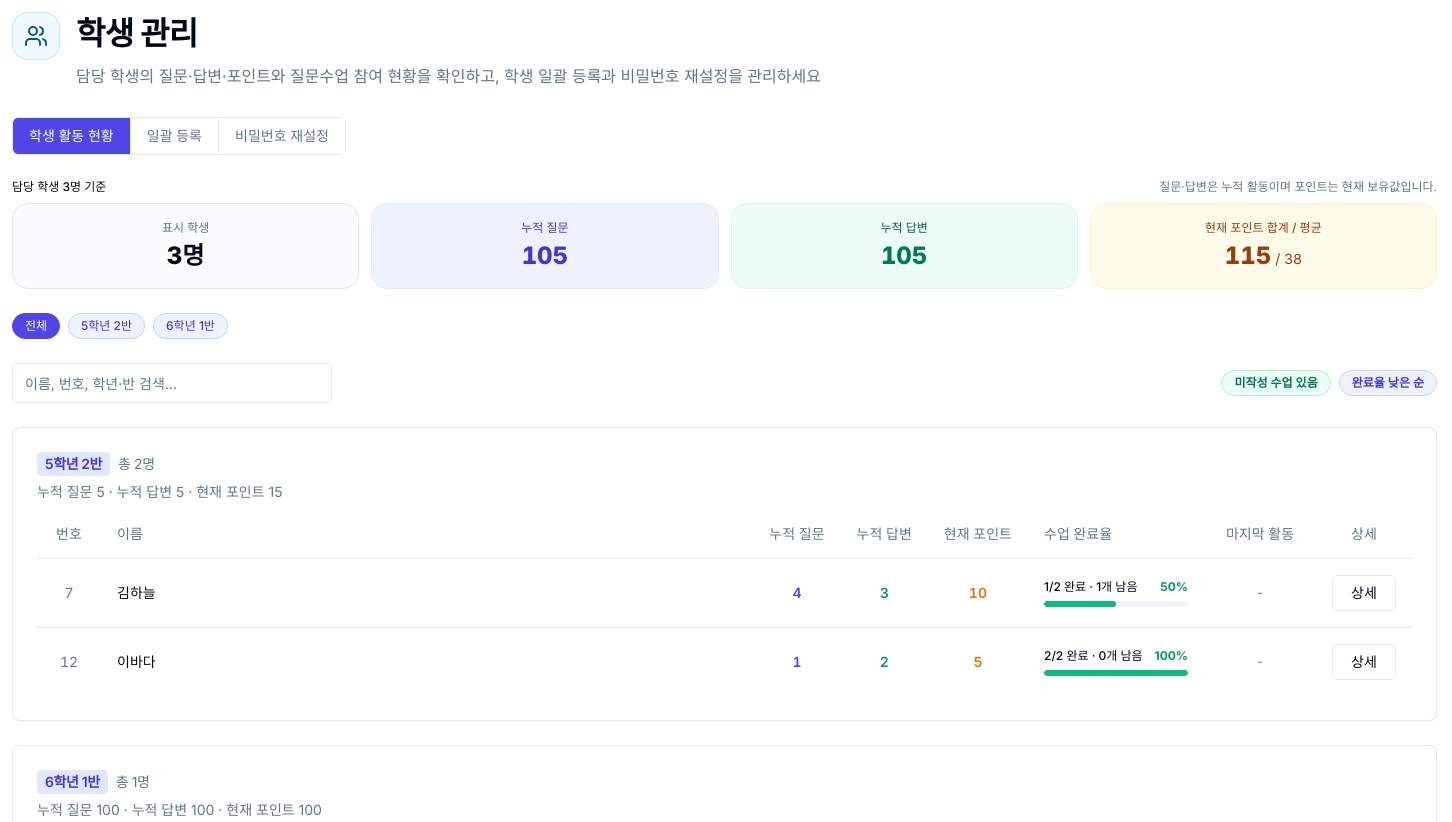
Scenario: 학생관리 표시 범위 › 학급 필터를 적용하면 상단 요약도 현재 학생 범위로 계산한다
The image size is (1452, 822).
Click the button "5학년 2반": (107, 326) [68,313,145,339]
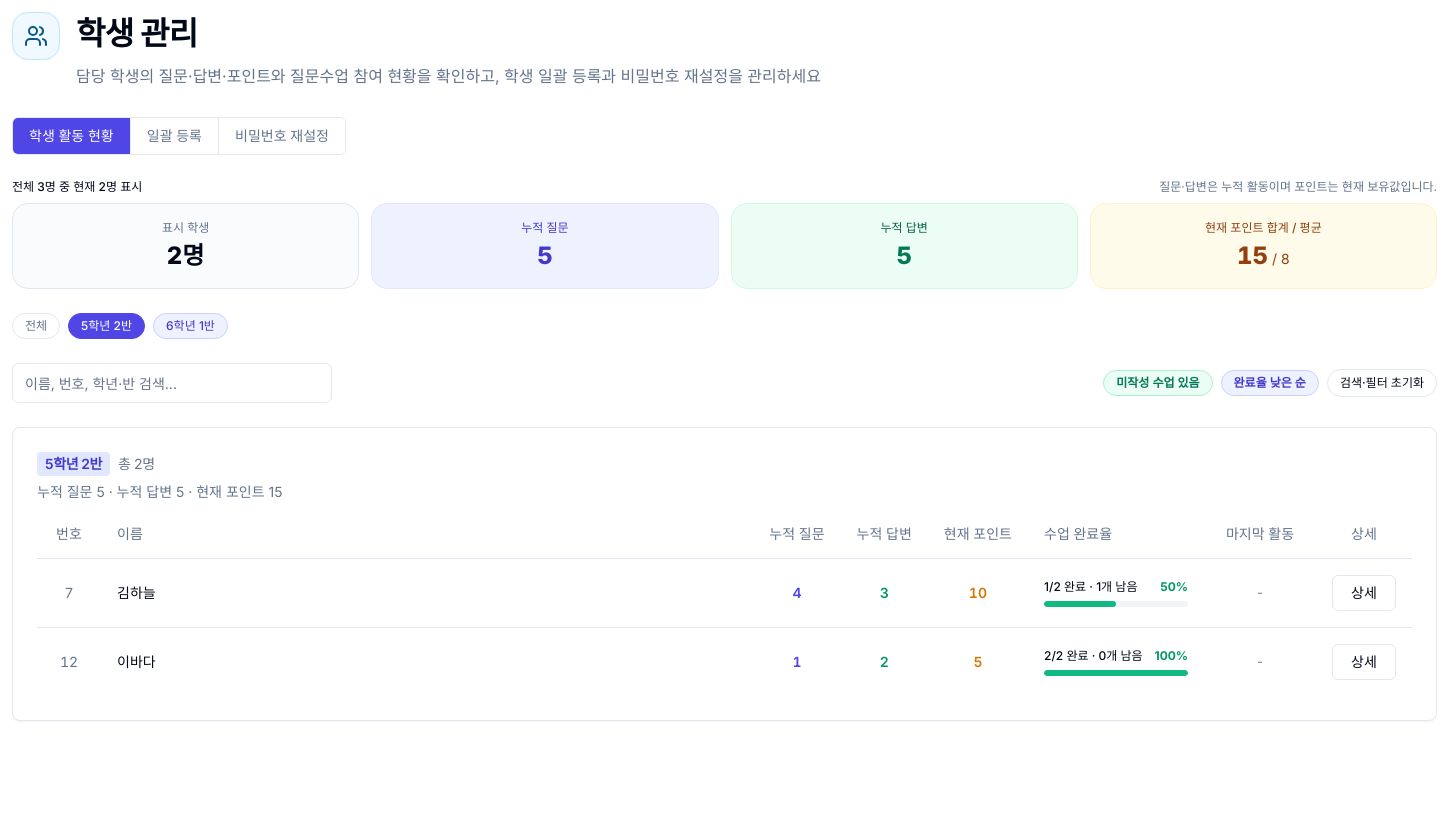
Expected: the 2nd text "5" is shown, [896,241,912,270]
Now the text "전체 3명 중 현재 2명 표시" is shown, box [12,179,142,195]
Now the text "2명" is shown, box [167,241,204,270]
